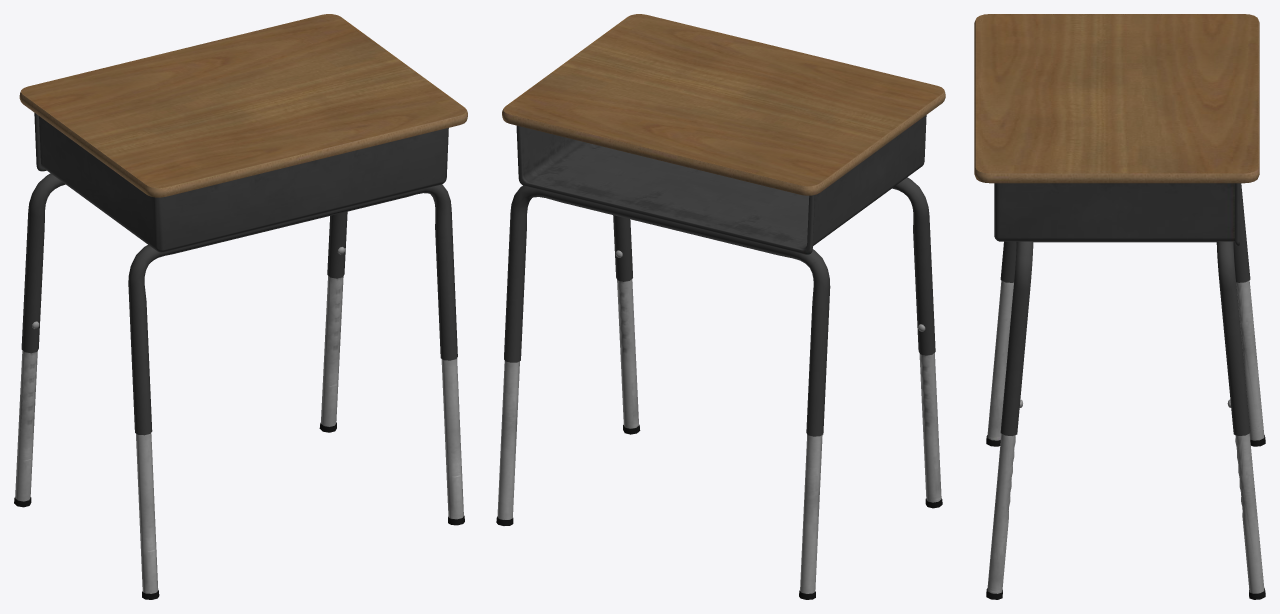
Rendered from SchoolDesk_01.glb.
3 renders of one model, left to right at view 1: azimuth 30°, elevation 25°; view 2: azimuth 150°, elevation 25°; view 3: azimuth 270°, elevation 25°, orthographic. The views are drawn at different scales.
Visible parts, largest first — view 1: SchoolDesk_01; view 2: SchoolDesk_01; view 3: SchoolDesk_01.
Boxes of the visible parts, bbox=[...] form: SchoolDesk_01: bbox=[14, 14, 467, 599]; SchoolDesk_01: bbox=[496, 14, 945, 599]; SchoolDesk_01: bbox=[974, 14, 1265, 599].
Size of the model in its own units: 0.7117 by 0.8826 by 0.546.
1 material, 1 textured.
